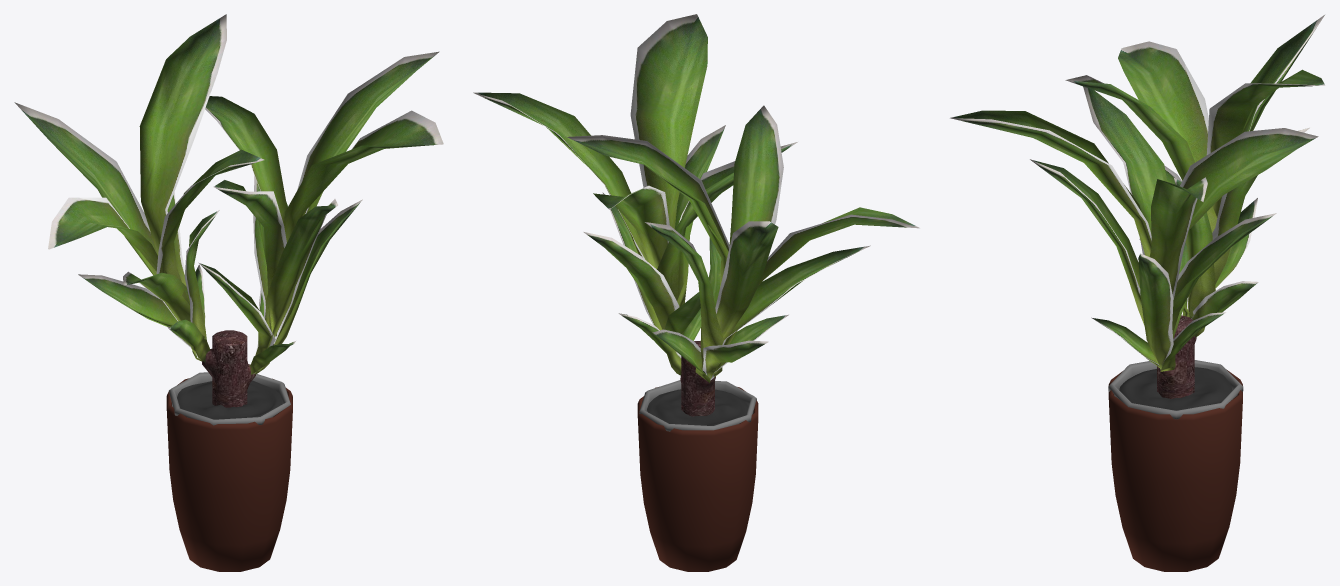
The model's file is plant.dae.
3 views of the same model, side by side, from view 1: azimuth 30°, elevation 25°; view 2: azimuth 150°, elevation 25°; view 3: azimuth 270°, elevation 25° (orthographic). The views are drawn at different scales.
Visible parts, largest first — view 1: Plant, indoor_plant_02; view 2: Plant, indoor_plant_02; view 3: Plant, indoor_plant_02.
Part boxes in pixels (bbox=[...]): Plant: bbox=[14, 14, 443, 407]; indoor_plant_02: bbox=[166, 372, 292, 571]; Plant: bbox=[473, 14, 919, 416]; indoor_plant_02: bbox=[637, 380, 758, 571]; Plant: bbox=[950, 14, 1325, 398]; indoor_plant_02: bbox=[1108, 360, 1243, 571].
Bounding box in the file's own units: 0.8867 × 0.6312 × 0.9335.
